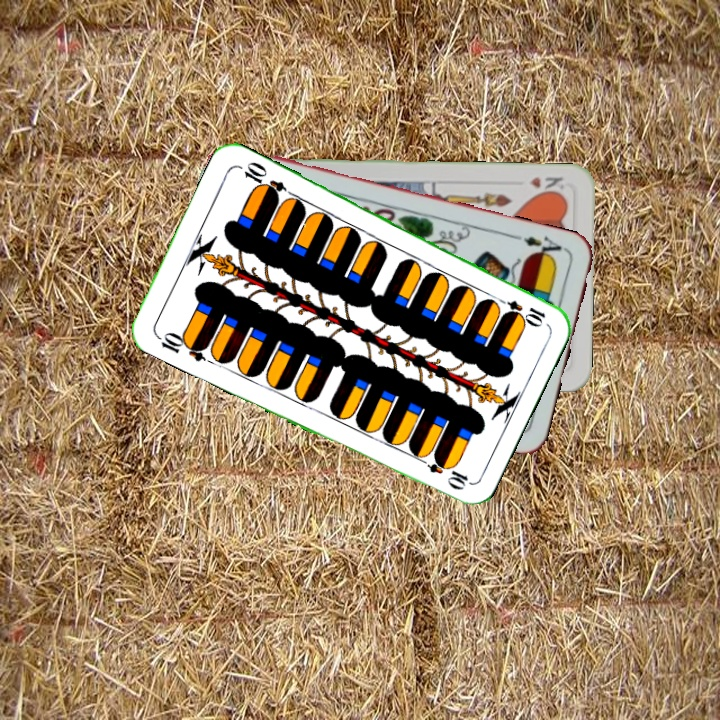E10: (152, 328, 211, 365), (491, 293, 548, 328)
EA: (511, 231, 569, 262)
HK: (526, 173, 567, 197)
